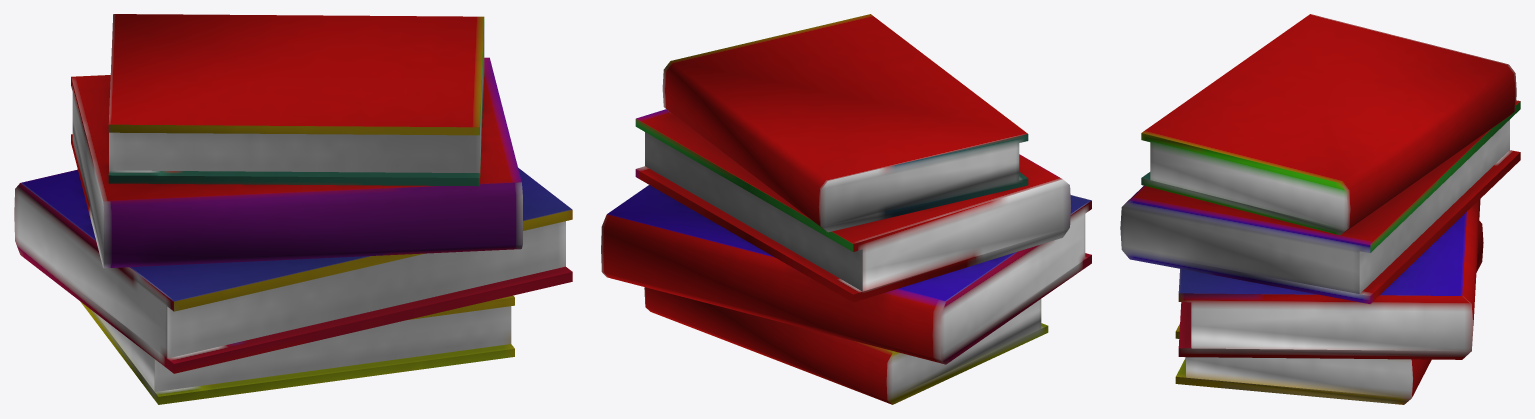
File: Prop_118_Closedbook_002.fbx
3 renders of one model, left to right at view 1: azimuth 30°, elevation 25°; view 2: azimuth 150°, elevation 25°; view 3: azimuth 270°, elevation 25°, orthographic. The views are drawn at different scales.
Visible parts, largest first — view 1: Prop_118_Closedbook_002; view 2: Prop_118_Closedbook_002; view 3: Prop_118_Closedbook_002.
Boxes of the visible parts, <box> form: Prop_118_Closedbook_002: <box>14,14,572,404</box>; Prop_118_Closedbook_002: <box>601,14,1091,404</box>; Prop_118_Closedbook_002: <box>1120,14,1520,404</box>.
Bounding box in the file's own units: 0.3669 × 0.2042 × 0.3256.
1 material, 1 textured.
